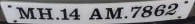character: (15, 6, 37, 20), (104, 6, 123, 20), (35, 7, 53, 20), (88, 6, 102, 20), (165, 2, 178, 15), (140, 4, 152, 18), (153, 3, 165, 17), (129, 5, 141, 18), (68, 8, 80, 20), (60, 8, 69, 20)
